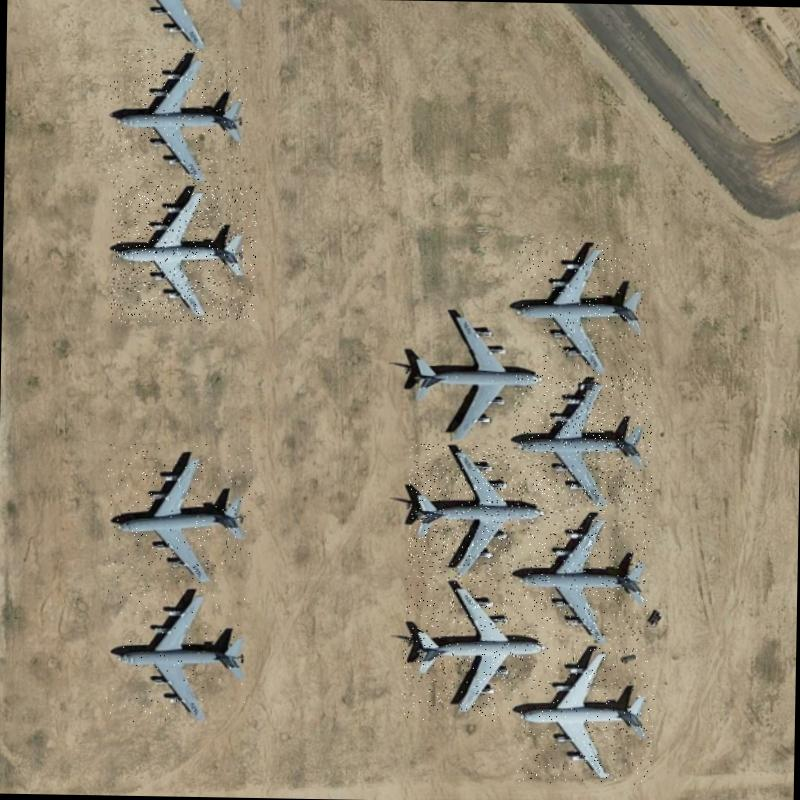A14: (400, 577, 550, 722), (106, 442, 251, 585), (110, 183, 256, 324), (106, 582, 246, 726), (510, 234, 650, 376), (394, 308, 544, 440), (107, 47, 248, 187), (407, 443, 549, 582), (515, 646, 654, 785), (512, 374, 654, 506), (516, 506, 649, 642)
